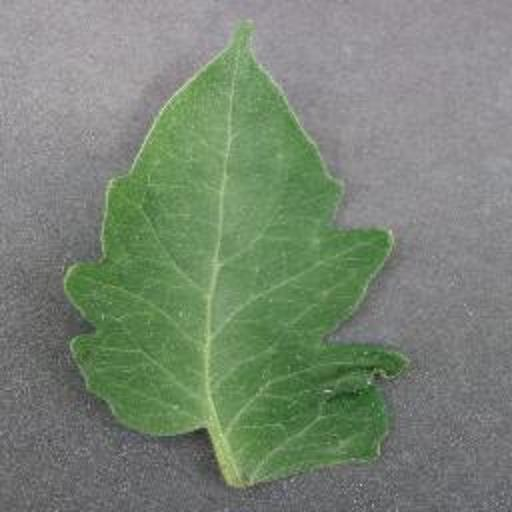Healthy: (54, 19, 406, 480)
